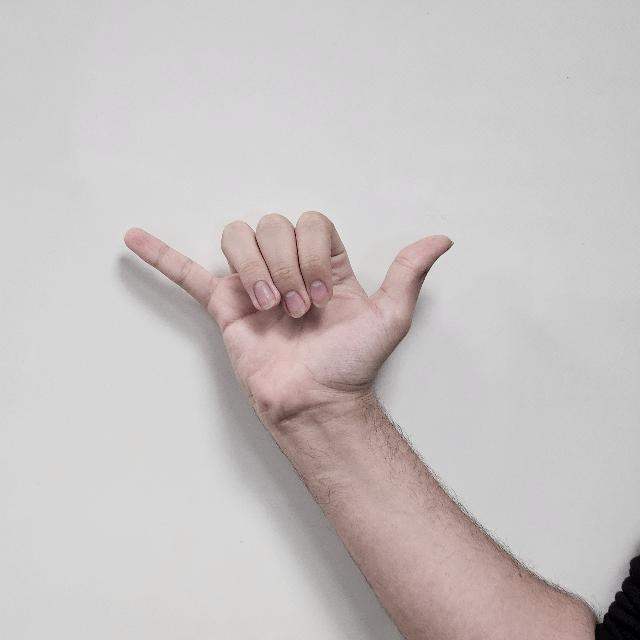Direita: (121, 210, 465, 424)
